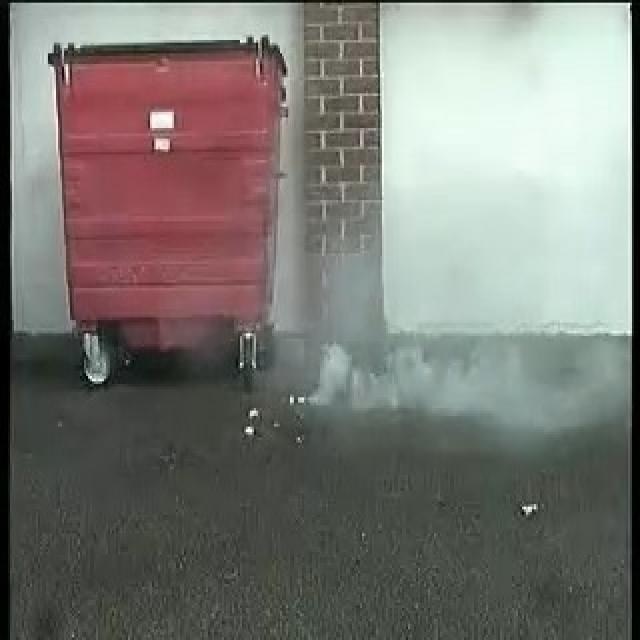smoke: (280, 225, 428, 412)
